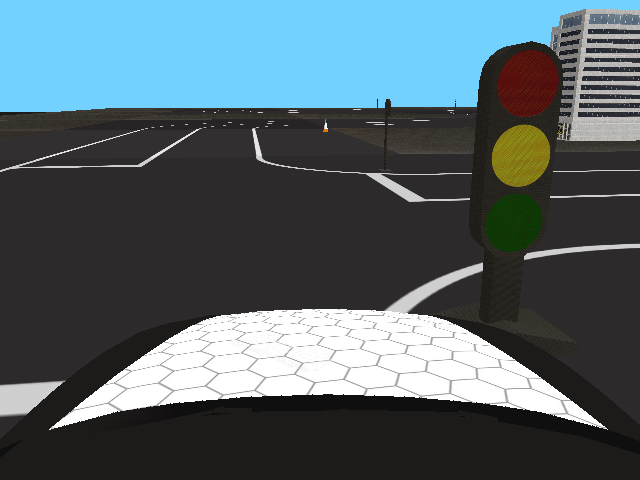yellow_light: (472, 41, 562, 258)
